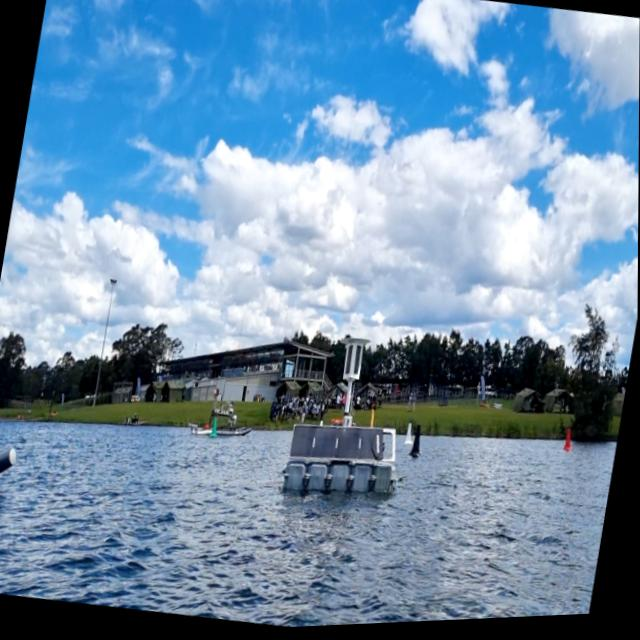led: (351, 347, 363, 381), (345, 346, 356, 379)
